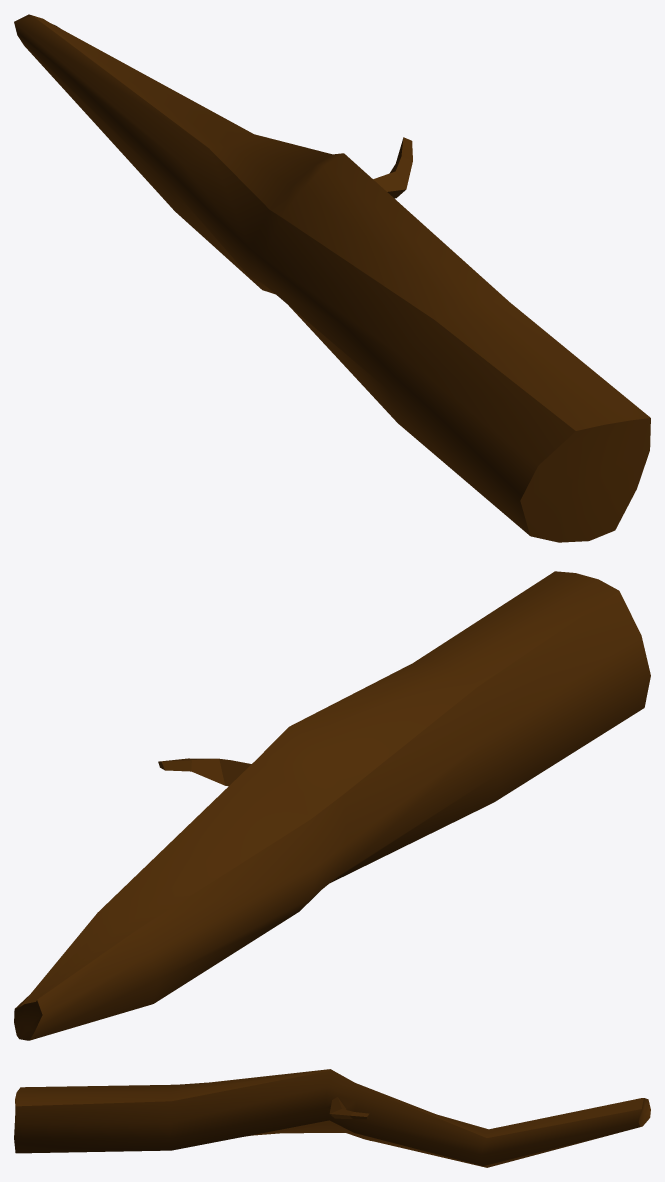
Rendered from Sem4_Environment_Ast05_JT.fbx.
3 renders of one model, top to bottom at view 1: azimuth 30°, elevation 25°; view 2: azimuth 150°, elevation 25°; view 3: azimuth 270°, elevation 25°, orthographic. The views are drawn at different scales.
Visible parts, largest first — view 1: Ast005_f; view 2: Ast005_f; view 3: Ast005_f.
Part boxes in pixels (x1,y1,x2,y2): Ast005_f: (14,14,650,542); Ast005_f: (14,571,650,1040); Ast005_f: (14,1069,650,1167).
Size of the model in its own units: 9.97 by 8.38 by 51.
